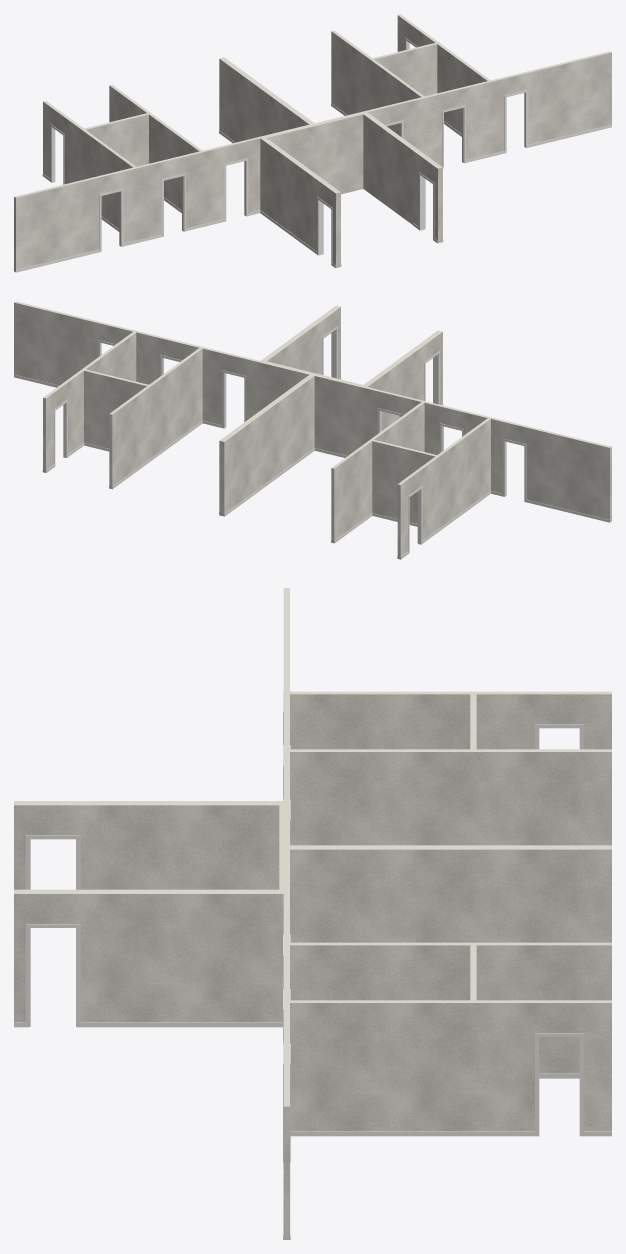
Rendered from walls_t.glb.
3 renders of one model, top to bottom at view 1: azimuth 30°, elevation 25°; view 2: azimuth 150°, elevation 25°; view 3: azimuth 270°, elevation 25°, orthographic. The views are drawn at different scales.
Parts seen in each view (by area): view 1: walls_t_plaster, walls_t_trim; view 2: walls_t_plaster, walls_t_trim; view 3: walls_t_plaster, walls_t_trim.
Part boxes in pixels (x1,y1,x2,y2): walls_t_plaster: (14,14,611,272); walls_t_trim: (16,37,611,272); walls_t_plaster: (14,301,611,559); walls_t_trim: (14,326,609,559); walls_t_plaster: (14,588,611,1239); walls_t_trim: (14,690,611,1239).
Size of the model in its own units: 23.4 by 2.8 by 11.4.
2 materials, 1 textured.
